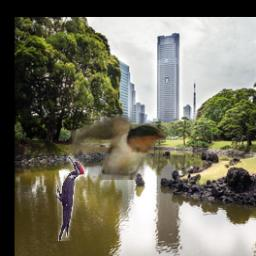Swallow: (69, 114, 166, 180)
Woodpecker: (55, 156, 84, 242)
